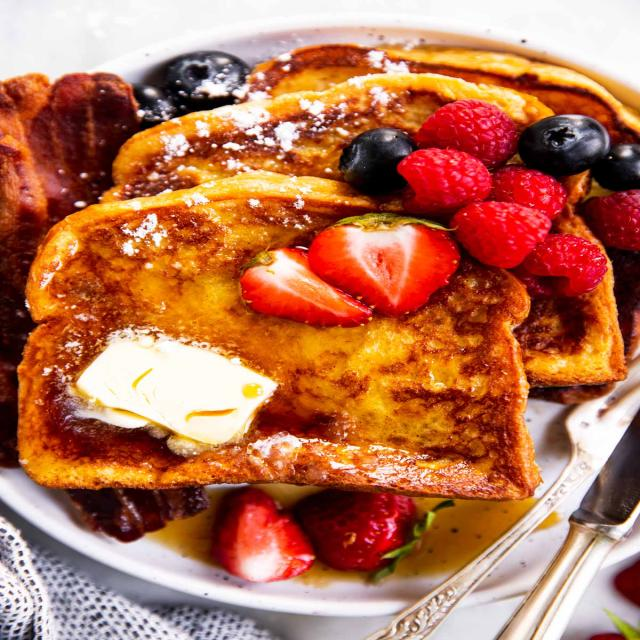Bread: (19, 172, 538, 499), (105, 74, 553, 201)
